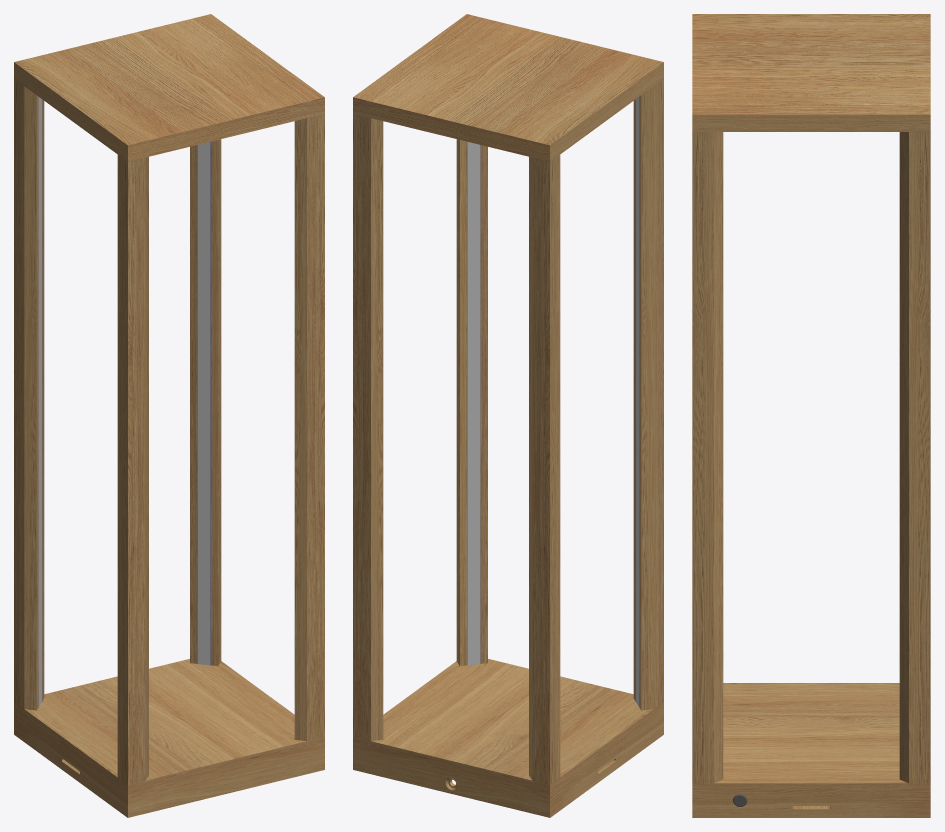
3 renders of one model, left to right at view 1: azimuth 30°, elevation 25°; view 2: azimuth 150°, elevation 25°; view 3: azimuth 270°, elevation 25°, orthographic. The views are drawn at different scales.
Visible parts, largest first — view 1: PROTO.007_Cube.031, Cube_Cube.001, Cube.001_Cube.006, Cube.021_Cube.061, Cube.022_Cube.062; view 2: PROTO.007_Cube.031, Cube_Cube.001, Cube.001_Cube.006, Cube.021_Cube.061, Cube.022_Cube.062; view 3: PROTO.007_Cube.031, Cube.001_Cube.006, Cube_Cube.001.
Boxes of the visible parts, x1,y1,x2,y2 form: PROTO.007_Cube.031: (14, 79, 324, 784); Cube_Cube.001: (14, 659, 324, 817); Cube.001_Cube.006: (14, 14, 324, 161); Cube.021_Cube.061: (38, 97, 209, 706); Cube.022_Cube.062: (42, 99, 210, 701); PROTO.007_Cube.031: (353, 79, 663, 784); Cube_Cube.001: (353, 659, 663, 817); Cube.001_Cube.006: (353, 14, 663, 161); Cube.021_Cube.061: (468, 97, 639, 706); Cube.022_Cube.062: (467, 99, 635, 701); PROTO.007_Cube.031: (692, 132, 930, 783); Cube.001_Cube.006: (692, 14, 930, 131); Cube_Cube.001: (692, 683, 930, 817).
Size of the model in its own units: 25.08 by 81.5 by 25.
